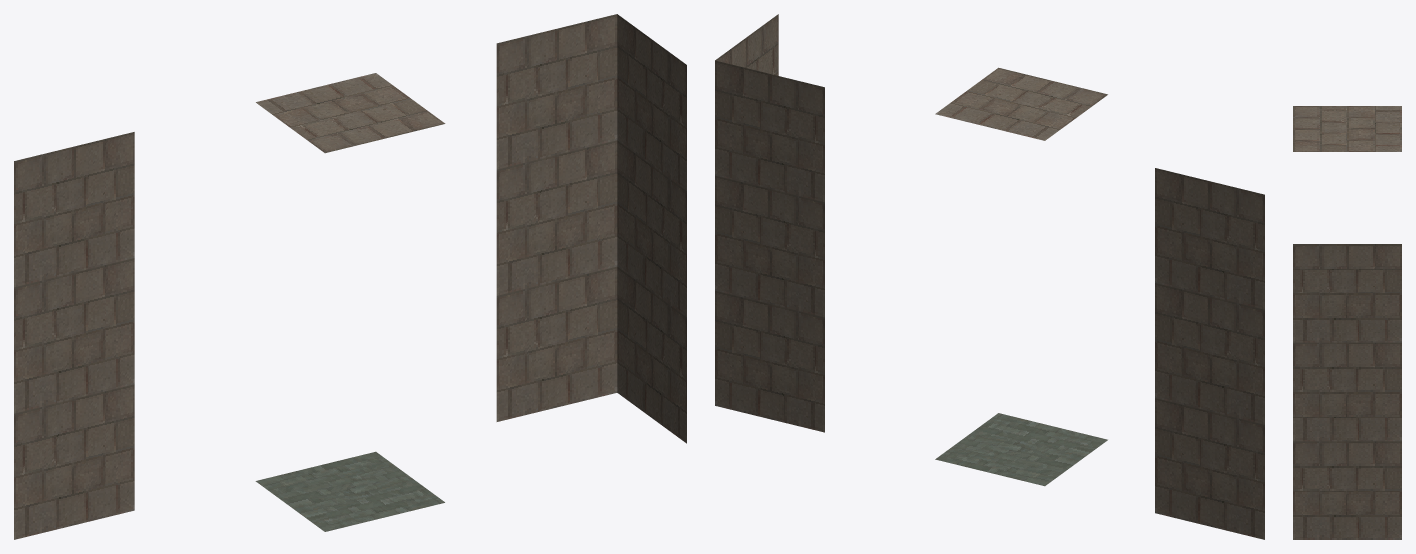
File: simple stone dungeon 64x.glb
3 views of the same model, side by side, from view 1: azimuth 30°, elevation 25°; view 2: azimuth 150°, elevation 25°; view 3: azimuth 270°, elevation 25° (orthographic). The views are drawn at different scales.
Visible parts, largest first — view 1: corner, wall, open; view 2: corner, wall, open; view 3: corner, open.
Part boxes in pixels (<box>): corner: <box>496,14,686,443</box>; wall: <box>14,132,134,539</box>; open: <box>255,73,445,531</box>; corner: <box>715,14,824,432</box>; wall: <box>1155,168,1264,539</box>; open: <box>935,67,1107,486</box>; corner: <box>1293,244,1401,539</box>; open: <box>1293,106,1401,151</box>.
Size of the model in its own units: 5 by 3 by 1.
Materials: 1 (1 with a texture image).
